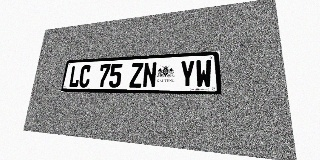5: (108, 63, 123, 88)
7: (97, 64, 111, 88)
C: (78, 65, 92, 87)
L: (68, 65, 81, 87)
N: (142, 62, 157, 88)
W: (195, 59, 212, 88)
Y: (180, 60, 195, 88)
Z: (129, 62, 143, 88)
